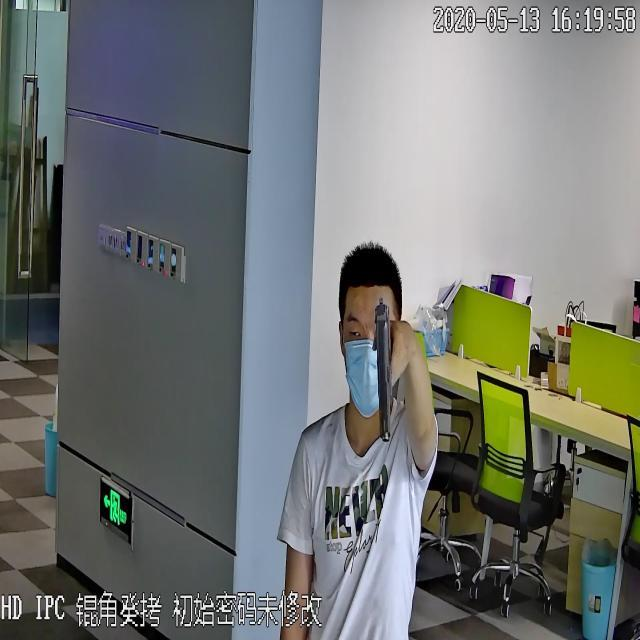gun: (372, 297, 412, 449)
